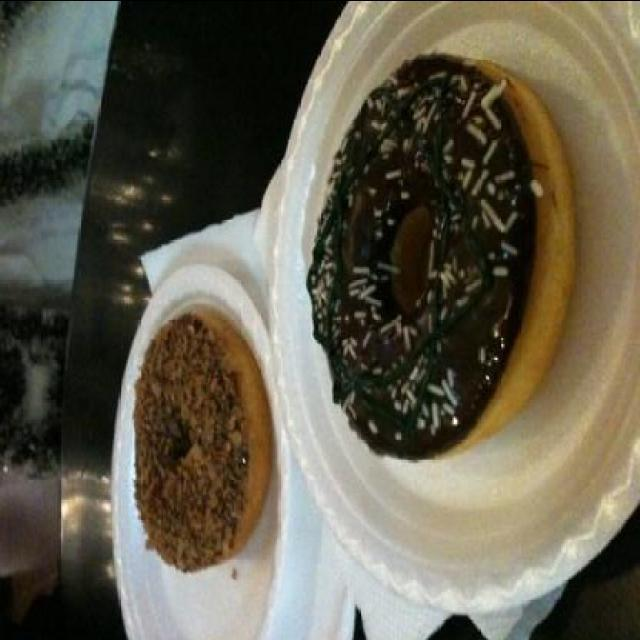Donuts: (122, 49, 580, 566)
